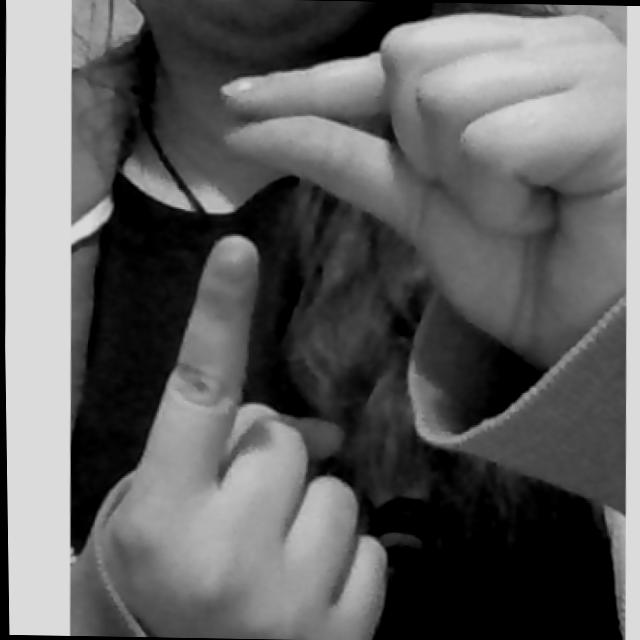I-: (64, 0, 637, 640)
